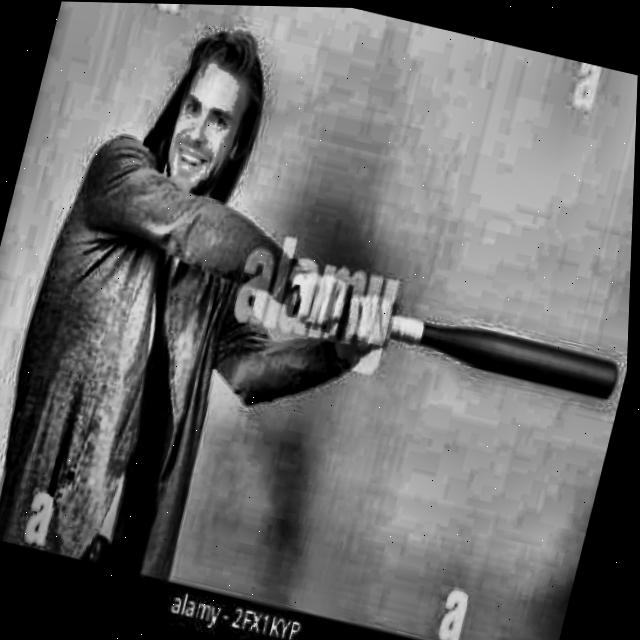tongkat pemukul: (255, 262, 620, 407)
